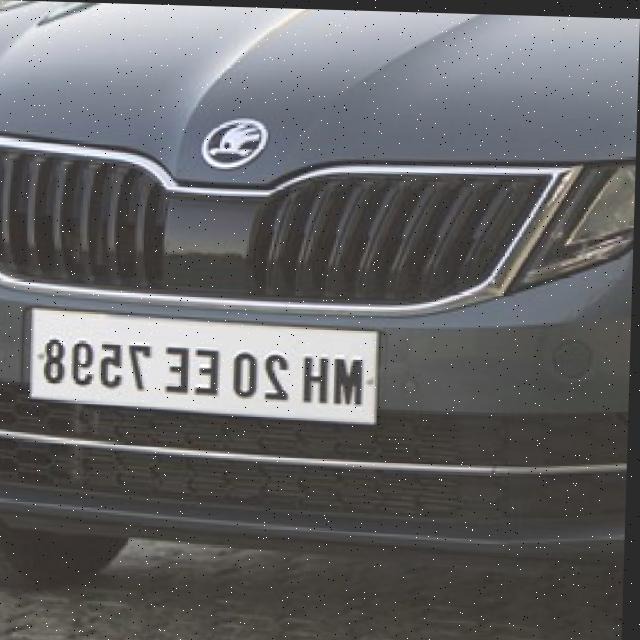plate: (28, 309, 382, 419)
